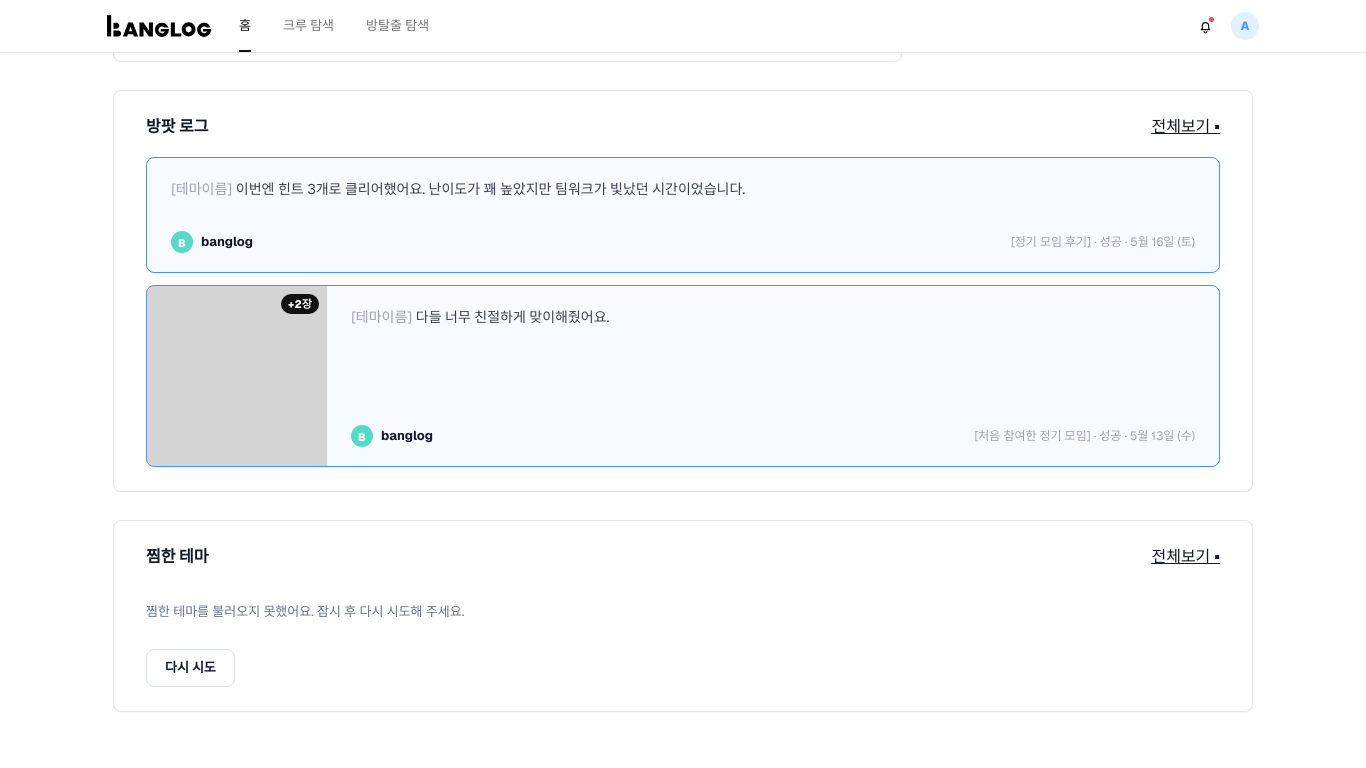
Test: ProfilePage › keeps the profile hub visible when the favorites summary section fails and allows retry
(page scrolled)
Expected: the text "찜한 테마를 불러오지 못했어요. 잠시 후 다시 시도해 주세요." is shown, [146,600,464,624]
Click the button "다시 시도".
click(190, 668)  # box [146,649,235,687]
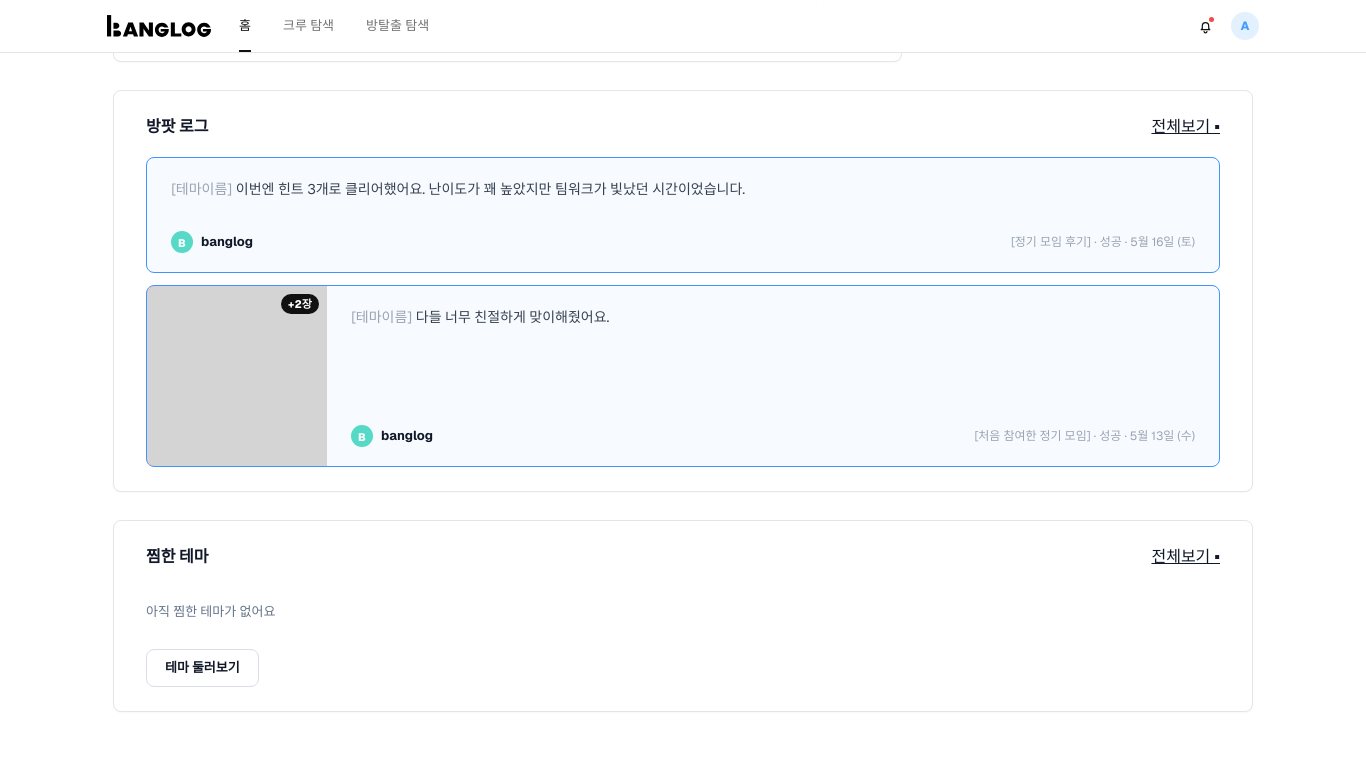
Result: the text "아직 찜한 테마가 없어요" is shown at [146,600,275,624]
